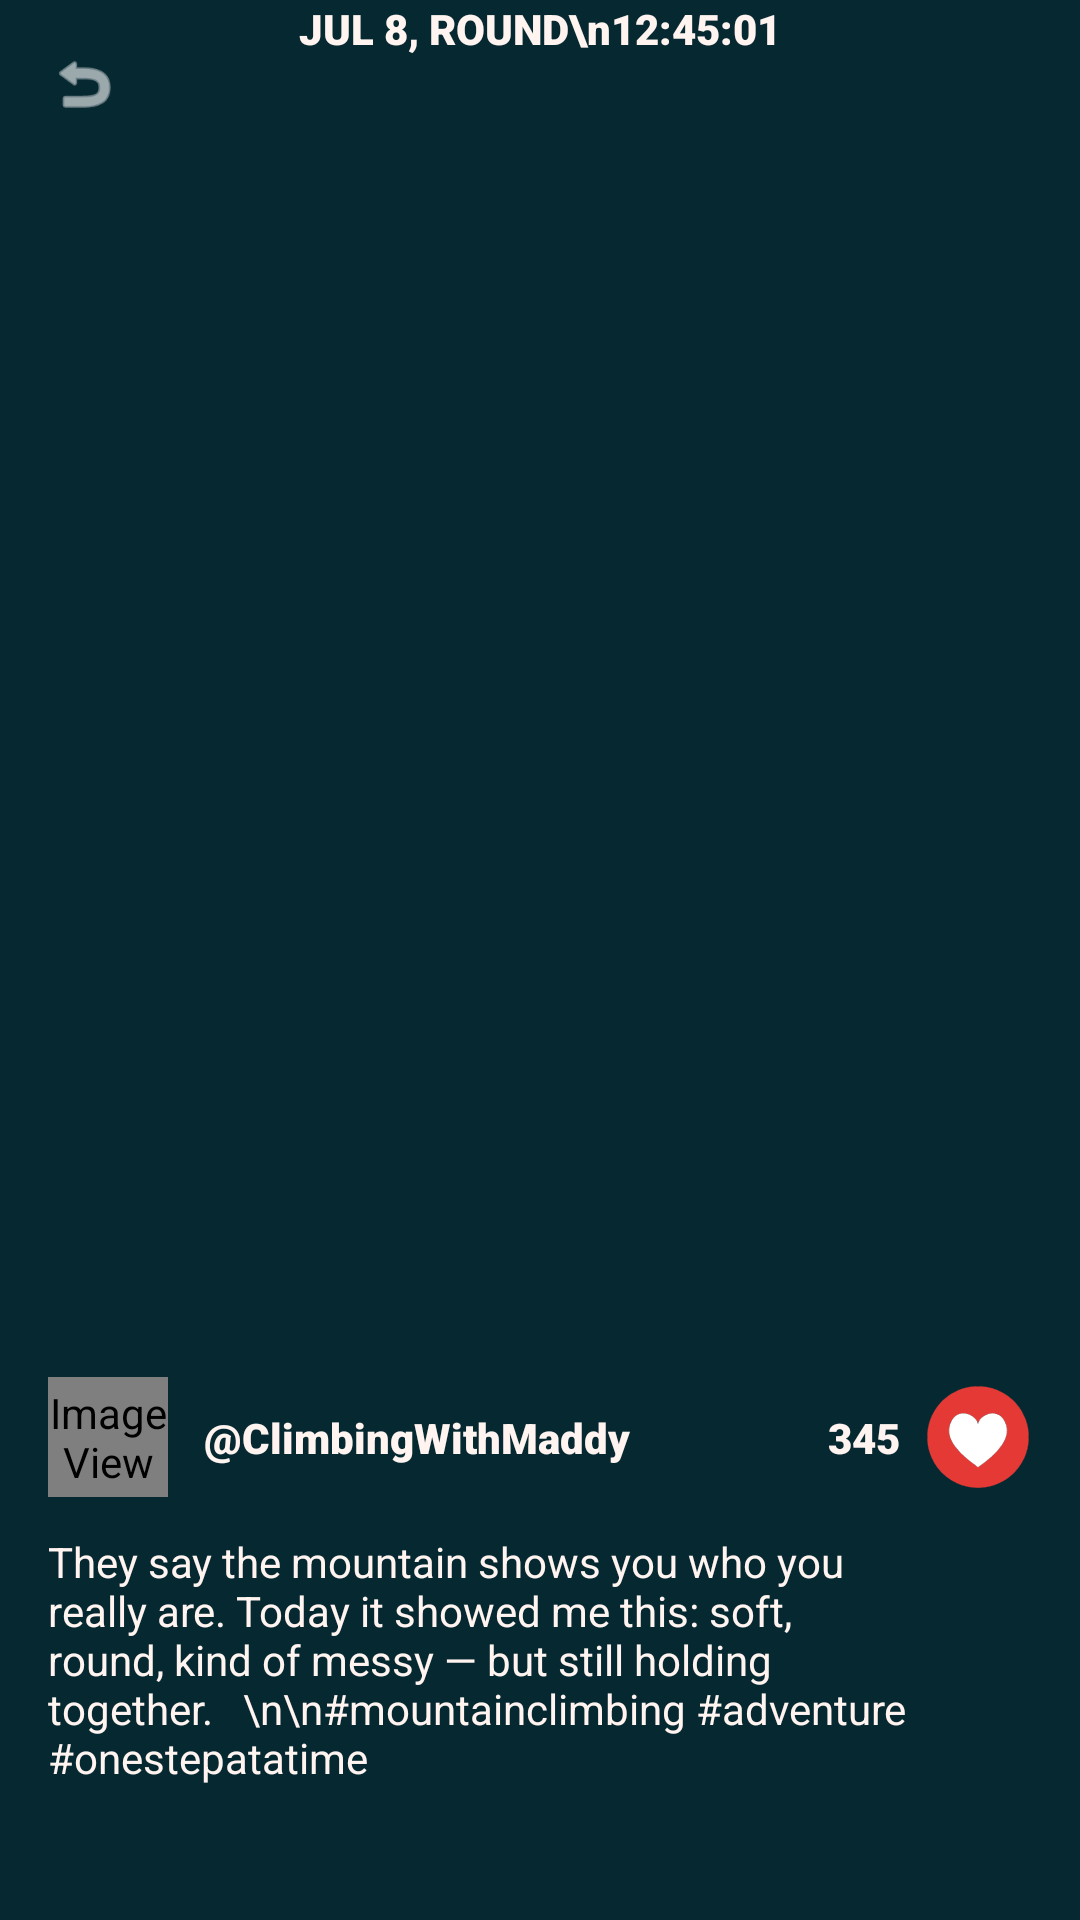

Point at icon controls on the screen. Image size 1080x1920, points as (x,y).
Back: (85,84)
heart: (978,1437)
